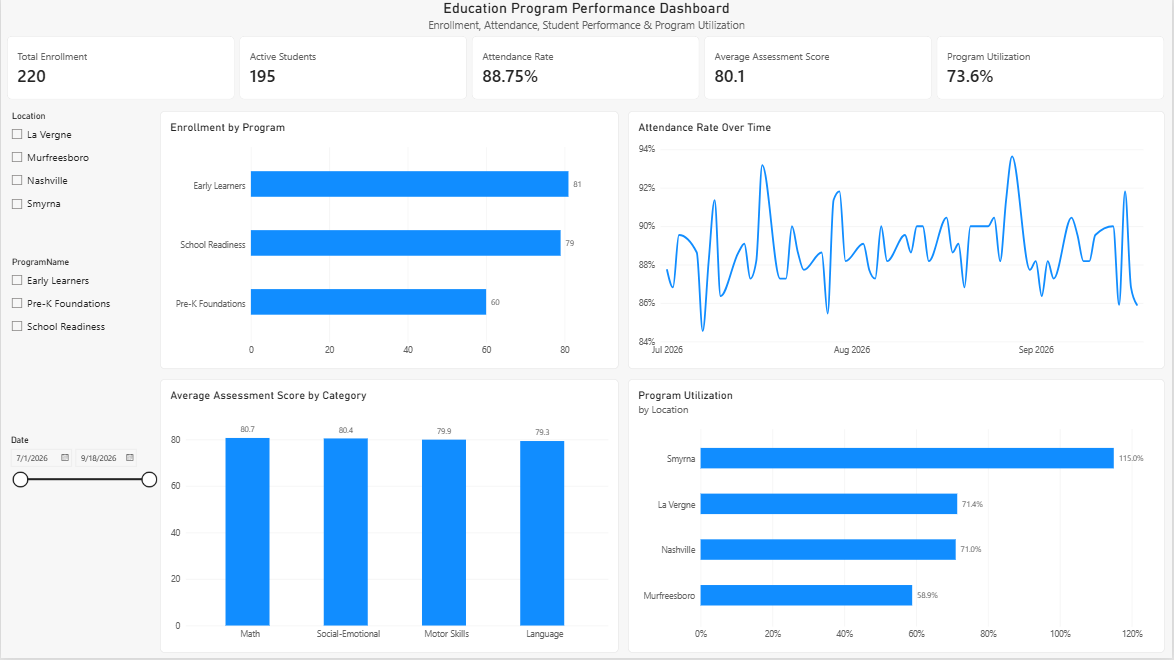

The page's visual inventory and layout, read from the dashboard file:
{"tool":"powerbi","page":{"name":"Page 1","canvas":[1920,1080],"ordinal":0},"visuals":[{"type":"cardVisual","fields":{"Data":["powerbi_students.Total Enrollment","powerbi_students.Active Students","powerbi_attendance.Attendance Rate","powerbi_assessments.Average Assessment Score","powerbi_students.Program Utilization"]},"box":[9.8,59,1898.4,104.9],"z":0},{"type":"clusteredBarChart","title":"Enrollment by Program","fields":{"Category":["powerbi_programs.ProgramName"],"Y":["powerbi_students.Total Enrollment"]},"box":[260.7,182,752.5,423],"z":1},{"type":"lineChart","title":"Attendance Rate Over Time","fields":{"Category":["powerbi_attendance.Date"],"Y":["powerbi_attendance.Attendance Rate"]},"box":[1027.9,182,880.3,423],"z":2},{"type":"clusteredColumnChart","title":"Average Assessment Score by Category","fields":{"Category":["powerbi_assessments.Category"],"Y":["powerbi_assessments.Average Assessment Score"]},"box":[260.7,621.3,752.5,449.2],"z":3},{"type":"slicer","fields":{"Values":["powerbi_programs.Location"]},"box":[9.8,182,249.2,239.3],"z":4},{"type":"slicer","fields":{"Values":["powerbi_programs.ProgramName"]},"box":[9.8,421.3,250.8,291.8],"z":5},{"type":"slicer","fields":{"Values":["DateTable.Date"]},"box":[8.2,713.1,250.8,357.4],"z":6},{"type":"clusteredBarChart","title":"Program Utilization by Location","fields":{"Category":["powerbi_programs.Location"],"Y":["powerbi_students.Program Utilization"]},"box":[1027.9,621.3,880.3,449.2],"z":8},{"type":"textbox","title":"Education Program Performance Dashboard","box":[0,0,1919.7,59],"z":9}]}

Visuals, with their boxes in screenshot pixels (x1, y1, x2, y2), scaled from the page's 1920x1080 canvas onto the 1174x660 screenshot:
cardVisual - powerbi_students.Total Enrollment x powerbi_students.Active Students: bbox=[6, 36, 1167, 100]
"Enrollment by Program" clusteredBarChart: bbox=[159, 111, 620, 370]
"Attendance Rate Over Time" lineChart: bbox=[629, 111, 1167, 370]
"Average Assessment Score by Category" clusteredColumnChart: bbox=[159, 380, 620, 654]
slicer - powerbi_programs.Location: bbox=[6, 111, 158, 257]
slicer - powerbi_programs.ProgramName: bbox=[6, 257, 159, 436]
slicer - DateTable.Date: bbox=[5, 436, 158, 654]
"Program Utilization by Location" clusteredBarChart: bbox=[629, 380, 1167, 654]
"Education Program Performance Dashboard" textbox: bbox=[0, 0, 1173, 36]
